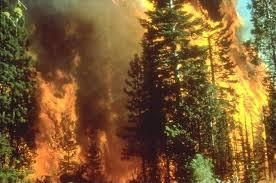fire: (10, 16, 124, 174), (183, 8, 276, 183), (155, 151, 177, 181)
